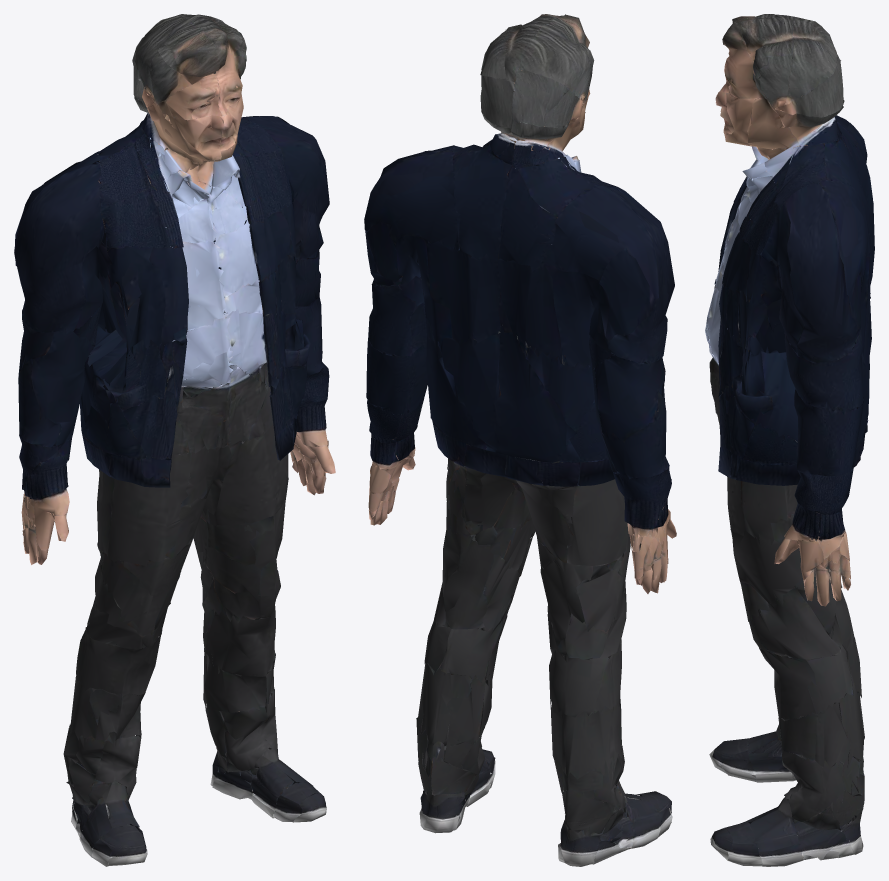
File: guardian.glb
3 renders of one model, left to right at view 1: azimuth 30°, elevation 25°; view 2: azimuth 150°, elevation 25°; view 3: azimuth 270°, elevation 25°, orthographic.
Parts seen in each view (by area): view 1: Mesh_0; view 2: Mesh_0; view 3: Mesh_0.
Part boxes in pixels (x1,y1,x2,y2): Mesh_0: (14, 14, 335, 866); Mesh_0: (364, 14, 676, 866); Mesh_0: (705, 14, 874, 866).
Size of the model in its own units: 0.7371 by 1.89 by 0.364.
Materials: 1 (1 with a texture image).
